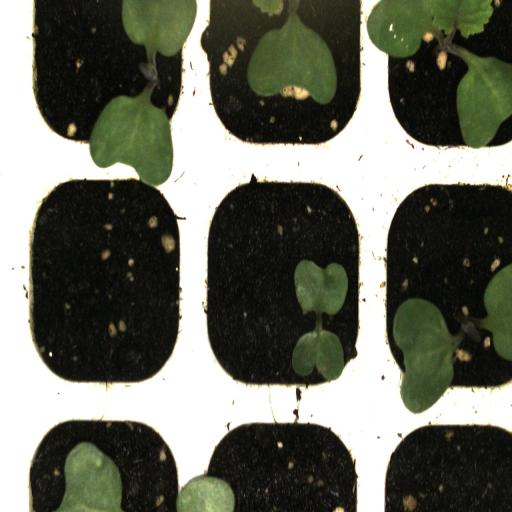noseedling: (12, 165, 197, 402)
seedling: (196, 169, 370, 398), (368, 166, 512, 405), (10, 0, 198, 166), (372, 0, 512, 168)
